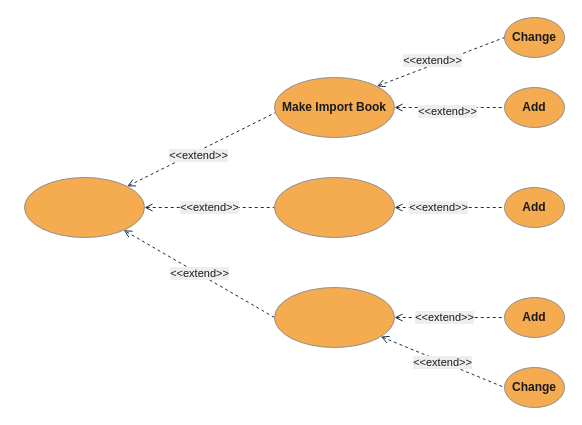
Some shapes in this 582 by 425 pixel diagram are drawn without their labels. Each missing label, with the centre of its shape:
Make Bill: [334,317]
Make Receipt: [334,207]
Sales Management: [84,207]
